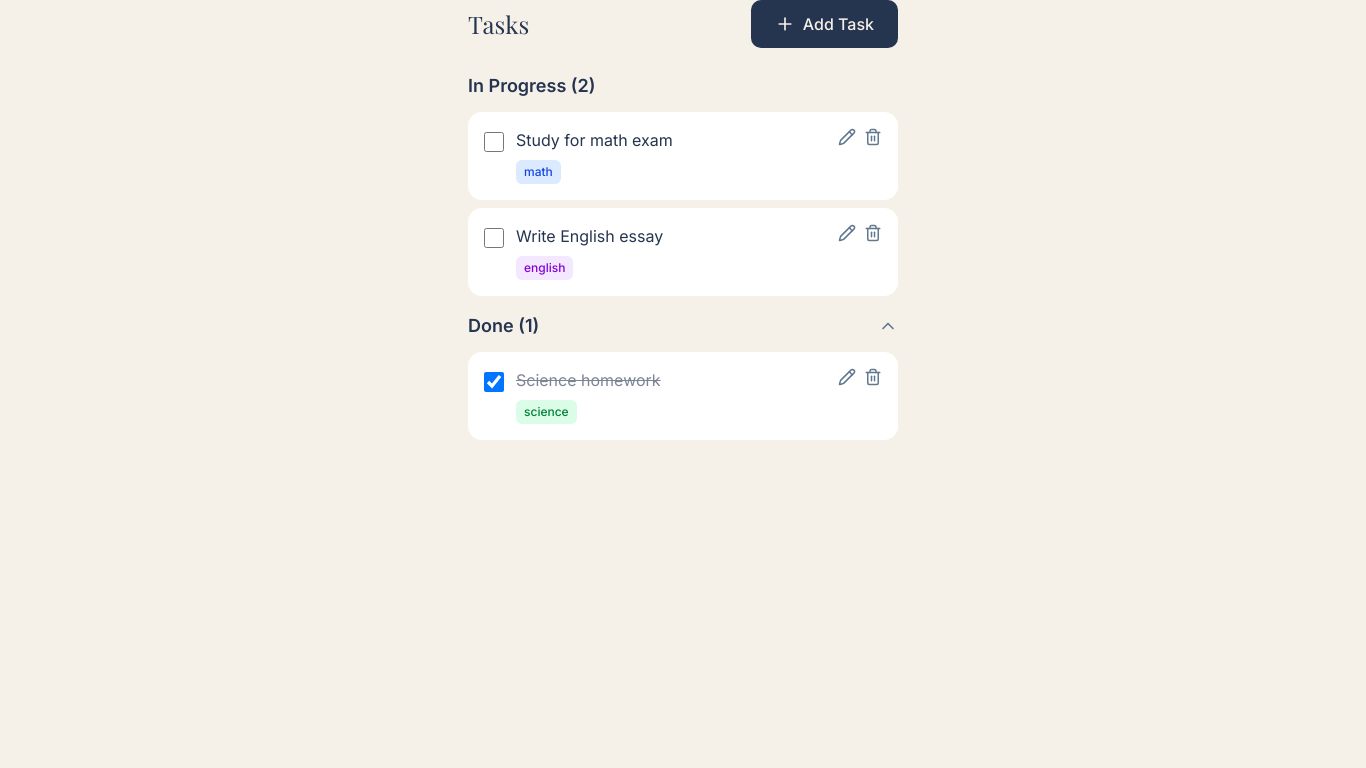
TodoClient › 32.2 Test todo editing › should open edit modal when edit button is clicked
Click the button named "edit task" in the row of "Study for math exam" at (847, 137), box [838,128,856,146]
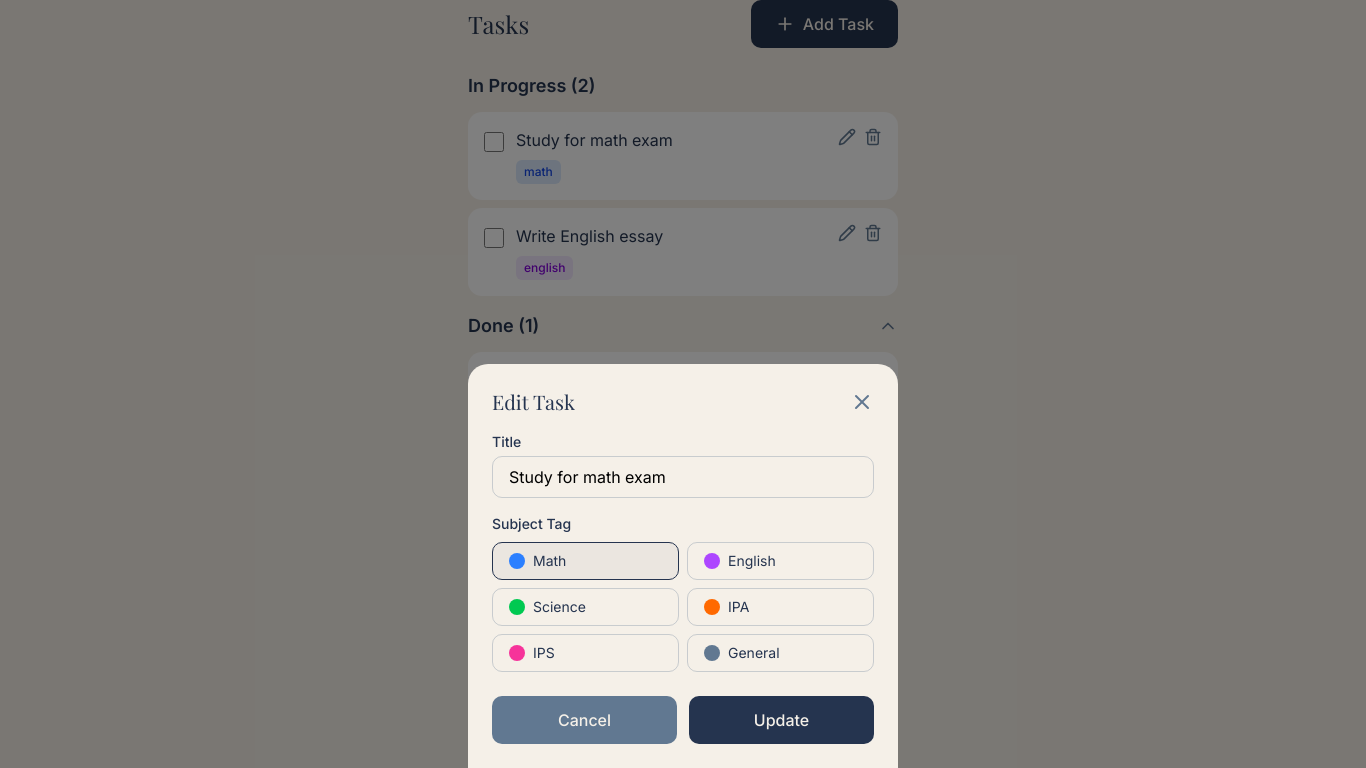
Check: the heading "Edit Task" is shown, box [492,388,575,416]
Check: the field showing "Study for math exam" is shown, box [492,456,874,498]
